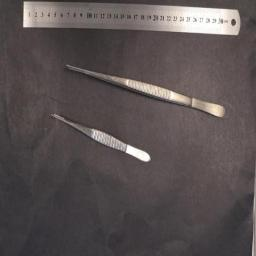DeBakey Dissector: (66, 65, 226, 119)
Gillies Toothed Dissector: (51, 114, 151, 162)
